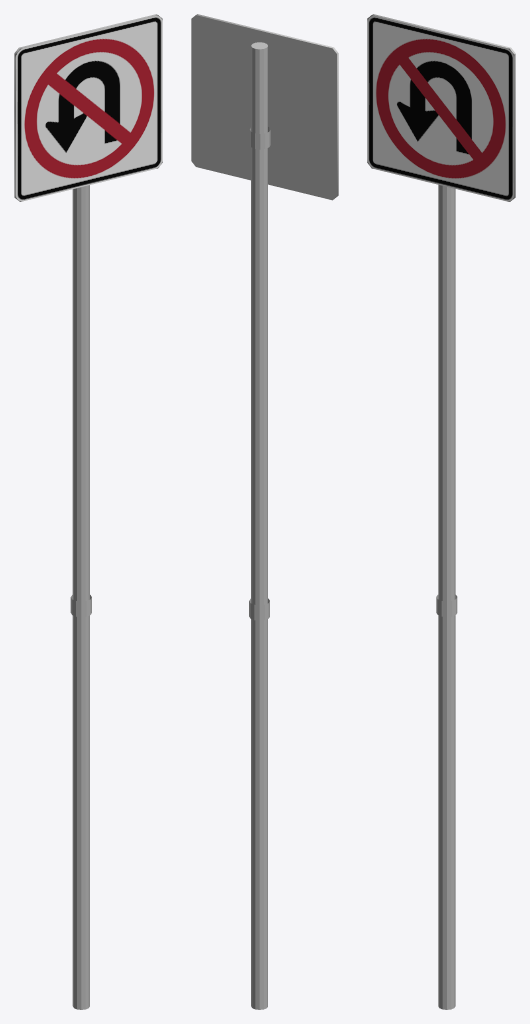
The model's file is SM_warning_sign_11.fbx.
3 views of the same model, side by side, from view 1: azimuth 30°, elevation 25°; view 2: azimuth 150°, elevation 25°; view 3: azimuth 330°, elevation 25° (orthographic).
Parts seen in each view (by area): view 1: warning_sign_11; view 2: warning_sign_11; view 3: warning_sign_11.
Part boxes in pixels (x1=…): warning_sign_11: x1=14, y1=14, x2=162, y2=1009; warning_sign_11: x1=191, y1=14, x2=338, y2=1009; warning_sign_11: x1=367, y1=14, x2=515, y2=1009.
Size of the model in its own units: 56.77 by 361 by 8.21.
